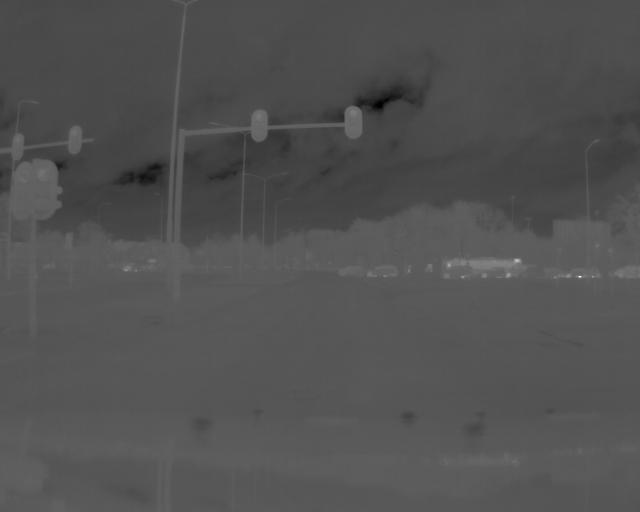car: (440, 263, 476, 281), (479, 265, 515, 281)
